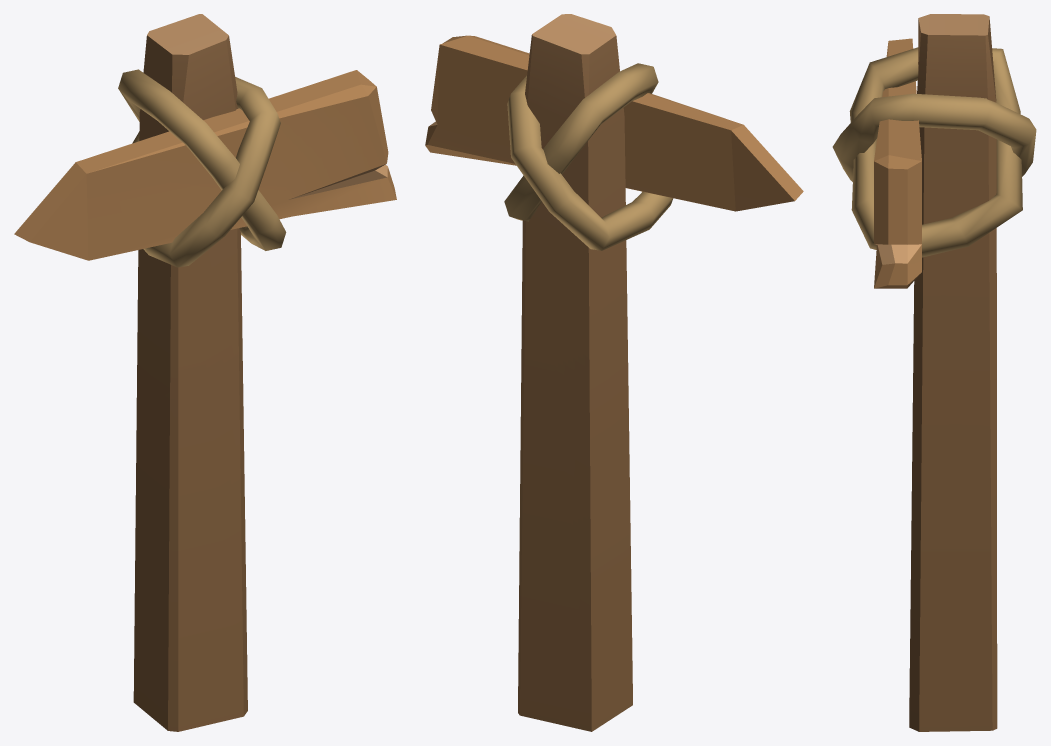
File: Signpost_E.fbx
3 views of the same model, side by side, from view 1: azimuth 30°, elevation 25°; view 2: azimuth 150°, elevation 25°; view 3: azimuth 270°, elevation 25° (orthographic). The views are drawn at different scales.
Parts seen in each view (by area): view 1: Signpost_E; view 2: Signpost_E; view 3: Signpost_E.
Part boxes in pixels (x1,y1,x2,y2): Signpost_E: (14, 14, 396, 731); Signpost_E: (425, 14, 803, 731); Signpost_E: (832, 14, 1036, 731).
Size of the model in its own units: 90.9 by 159 by 42.55.
